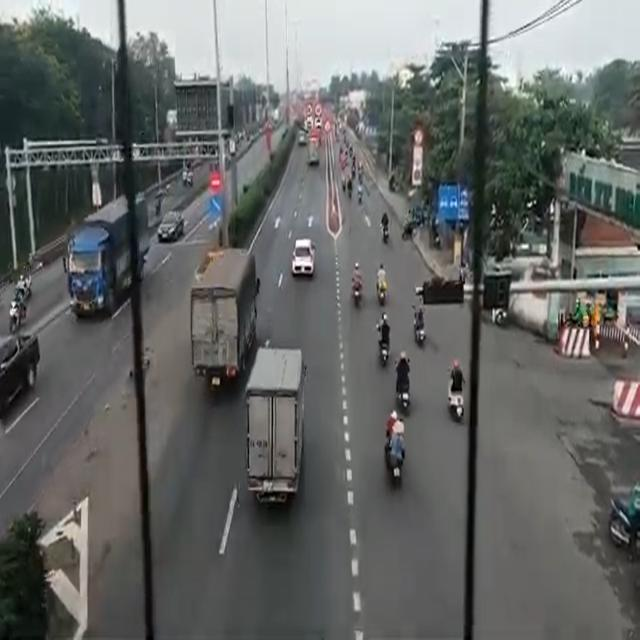car: (0, 334, 34, 406), (290, 238, 312, 273), (158, 212, 183, 240)
motorbike: (386, 414, 402, 492), (396, 354, 413, 411), (448, 364, 463, 422), (378, 315, 388, 369), (414, 303, 426, 344), (377, 261, 387, 302), (380, 206, 389, 247), (352, 259, 360, 302)
truck: (67, 198, 145, 322), (250, 347, 302, 502), (192, 250, 246, 384)
